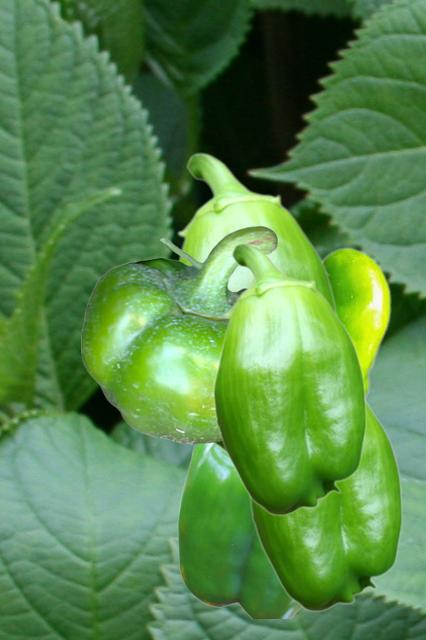bell_pepper: (176, 152, 337, 453), (81, 225, 280, 443), (212, 242, 366, 515), (249, 401, 402, 611), (177, 444, 301, 617), (322, 244, 390, 401)
